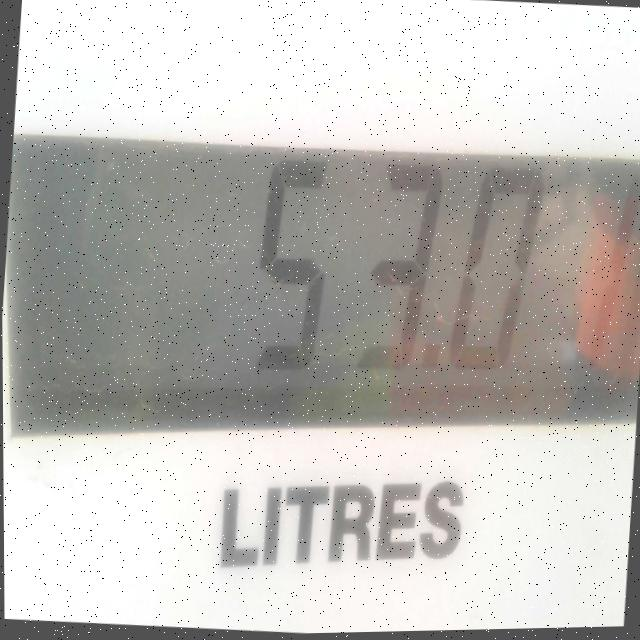.: (414, 332, 441, 397)
0: (439, 163, 558, 397)
1: (566, 163, 640, 406)
3: (348, 150, 439, 387)
5: (236, 165, 363, 413)
